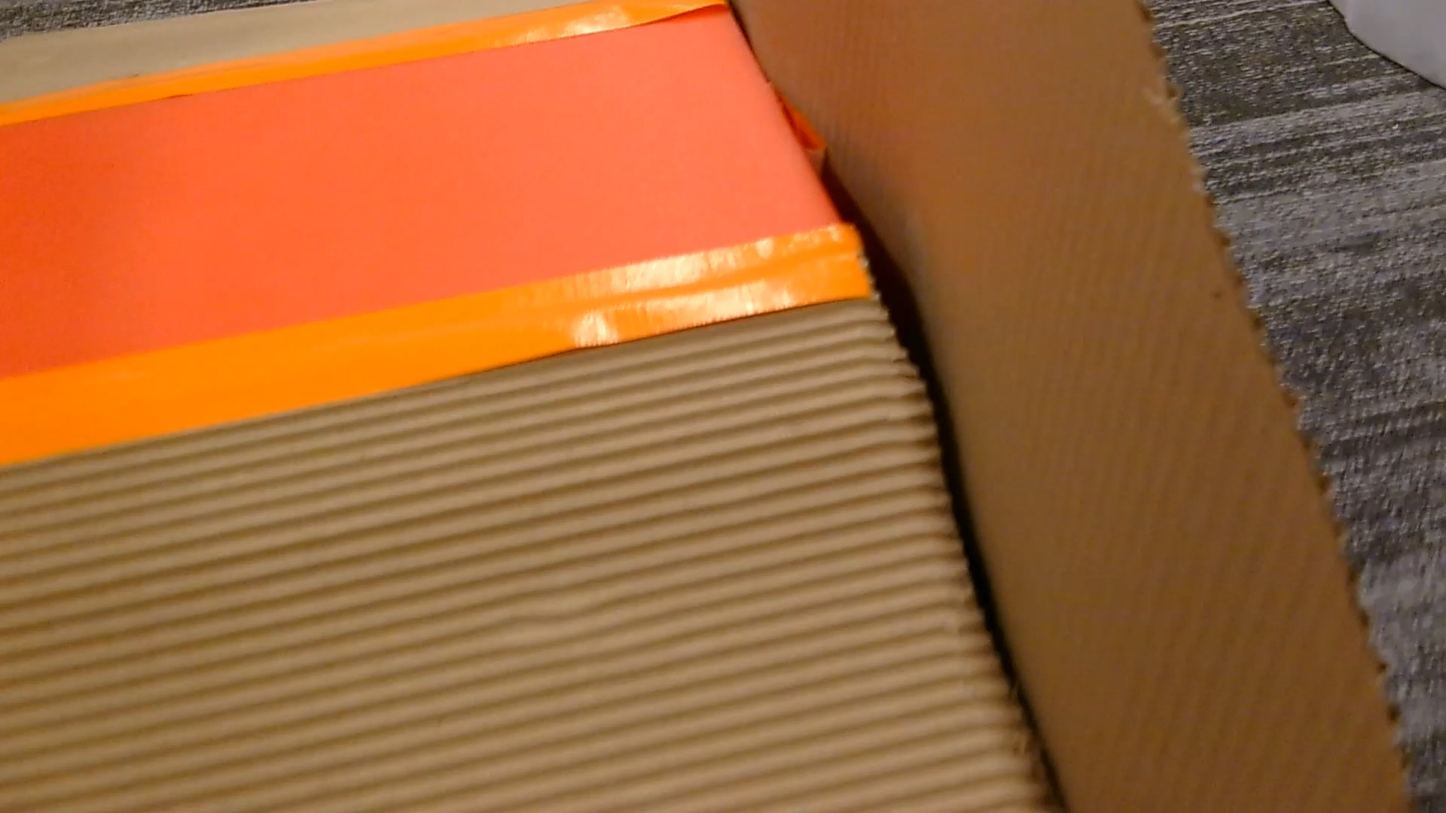Ramp: (0, 0, 1409, 812)
